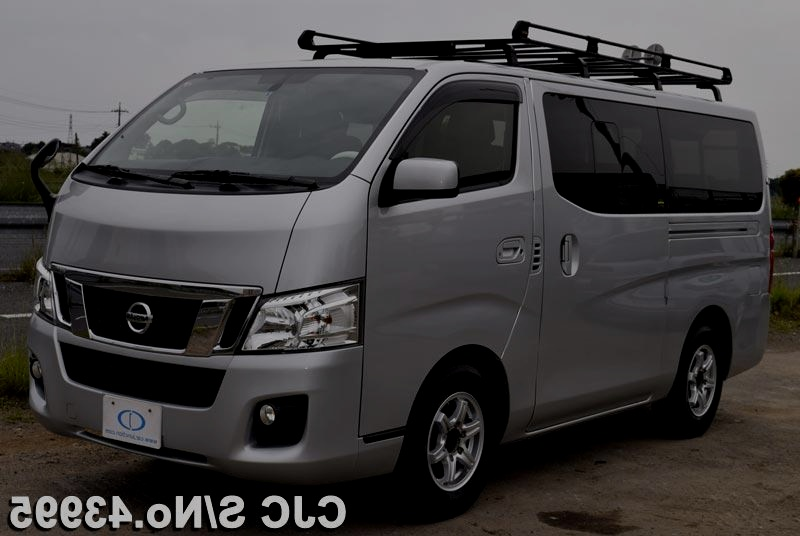van: (19, 60, 765, 492)
